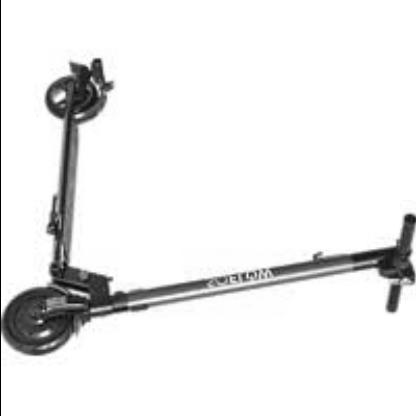bike: (2, 56, 414, 358)
